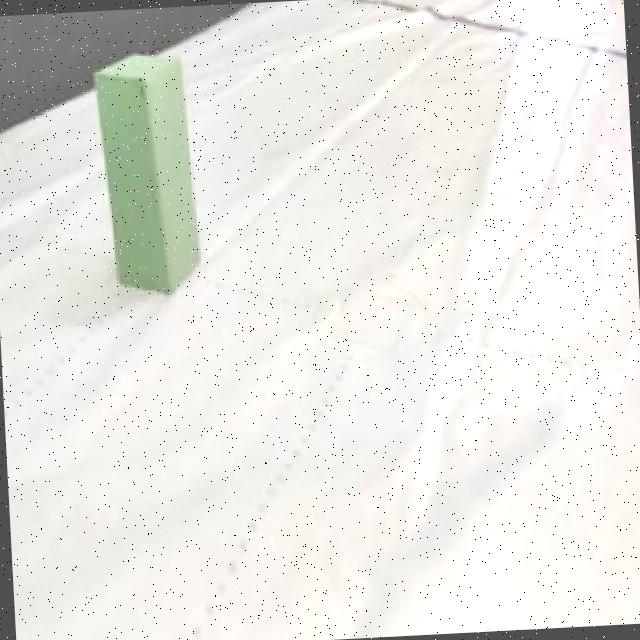greenbox: (92, 48, 200, 292)
